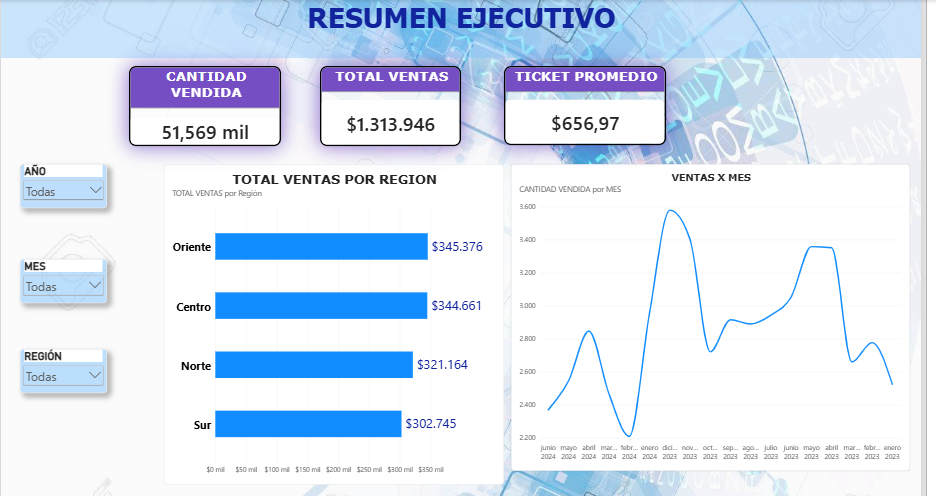

Layout of this report page (visuals, bound fields, positions):
{"tool":"powerbi","page":{"name":"RESUMEN","canvas":[1920,1080],"ordinal":0},"visuals":[{"type":"barChart","title":"TOTAL VENTAS POR REGION","fields":{"Category":["Ventas.Región"],"Y":["_Medidas.TOTAL VENTAS"]},"box":[339.8,341.9,708.9,669.3],"z":0},{"type":"slicer","fields":{"Values":["Ventas.Mes.Variación.Jerarquía de fechas.Mes"]},"box":[39.6,540,181.4,91.7],"z":1000},{"type":"lineChart","title":"VENTAS X MES","fields":{"Category":["CALENDARIO.MES"],"Y":["_Medidas.CANTIDAD VENDIDA"]},"box":[1063.3,341.9,831.9,640.1],"z":2000},{"type":"cardVisual","title":"TOTAL VENTAS","fields":{"Data":["Ventas.TOTAL VENTAS"]},"box":[665.1,137.6,294,166.8],"z":3000},{"type":"cardVisual","title":"CANTIDAD VENDIDA","fields":{"Data":["Ventas.CANTIDAD VENDIDA"]},"box":[266.9,137.6,316.9,166.8],"z":4000},{"type":"cardVisual","title":"TICKET PROMEDIO","fields":{"Data":["Ventas.TICKET PROMEDIO"]},"box":[1048.7,137.6,337.8,164.7],"z":5000},{"type":"slicer","fields":{"Values":["CALENDARIO.AÑO"]},"box":[39.6,341.9,181.4,91.7],"z":5001},{"type":"textbox","box":[0,0,1920.2,120.9],"z":5002},{"type":"slicer","fields":{"Values":["Ventas.Región"]},"box":[39.6,727.6,181.4,91.7],"z":5003}]}

Visuals, with their boxes on the page's 1920x1080 design canvas (x1, y1, x2, y2). These are canvas units, not pixel positions in the 936x496 screenshot, which may show the page scaled, cropped or inside an application window:
"TOTAL VENTAS POR REGION" barChart: {"x1": 340, "y1": 342, "x2": 1049, "y2": 1011}
slicer - Ventas.Mes.Variación.Jerarquía de fechas.Mes: {"x1": 40, "y1": 540, "x2": 221, "y2": 632}
"VENTAS X MES" lineChart: {"x1": 1063, "y1": 342, "x2": 1895, "y2": 982}
"TOTAL VENTAS" cardVisual: {"x1": 665, "y1": 138, "x2": 959, "y2": 304}
"CANTIDAD VENDIDA" cardVisual: {"x1": 267, "y1": 138, "x2": 584, "y2": 304}
"TICKET PROMEDIO" cardVisual: {"x1": 1049, "y1": 138, "x2": 1386, "y2": 302}
slicer - CALENDARIO.AÑO: {"x1": 40, "y1": 342, "x2": 221, "y2": 434}
textbox: {"x1": 0, "y1": 0, "x2": 1920, "y2": 121}
slicer - Ventas.Región: {"x1": 40, "y1": 728, "x2": 221, "y2": 819}
